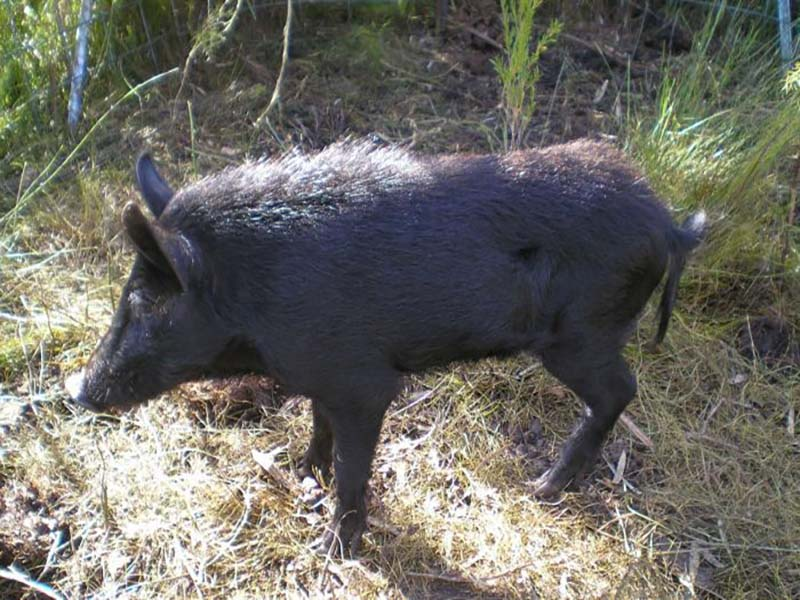cinghiale: (95, 140, 707, 527)
